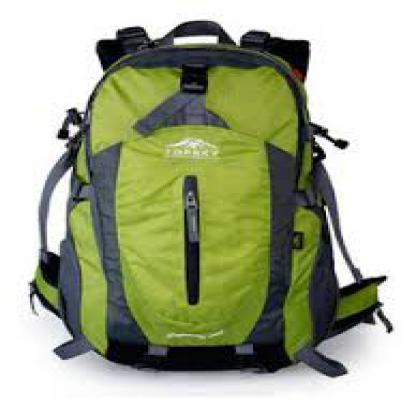morral: (11, 13, 403, 385)
